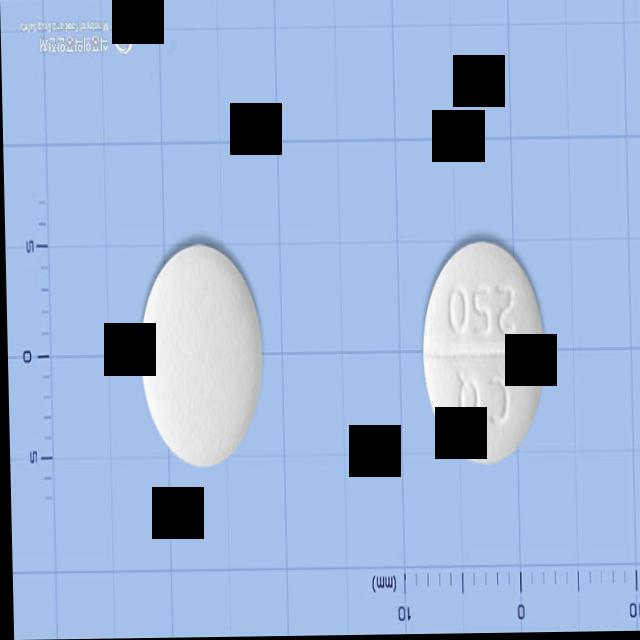Cq Robey: (136, 244, 262, 473), (419, 242, 544, 468)
